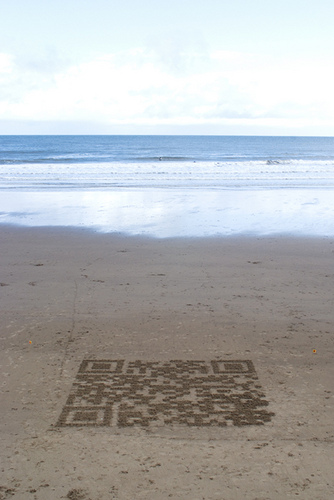QR-CODE: (55, 360, 273, 426)
